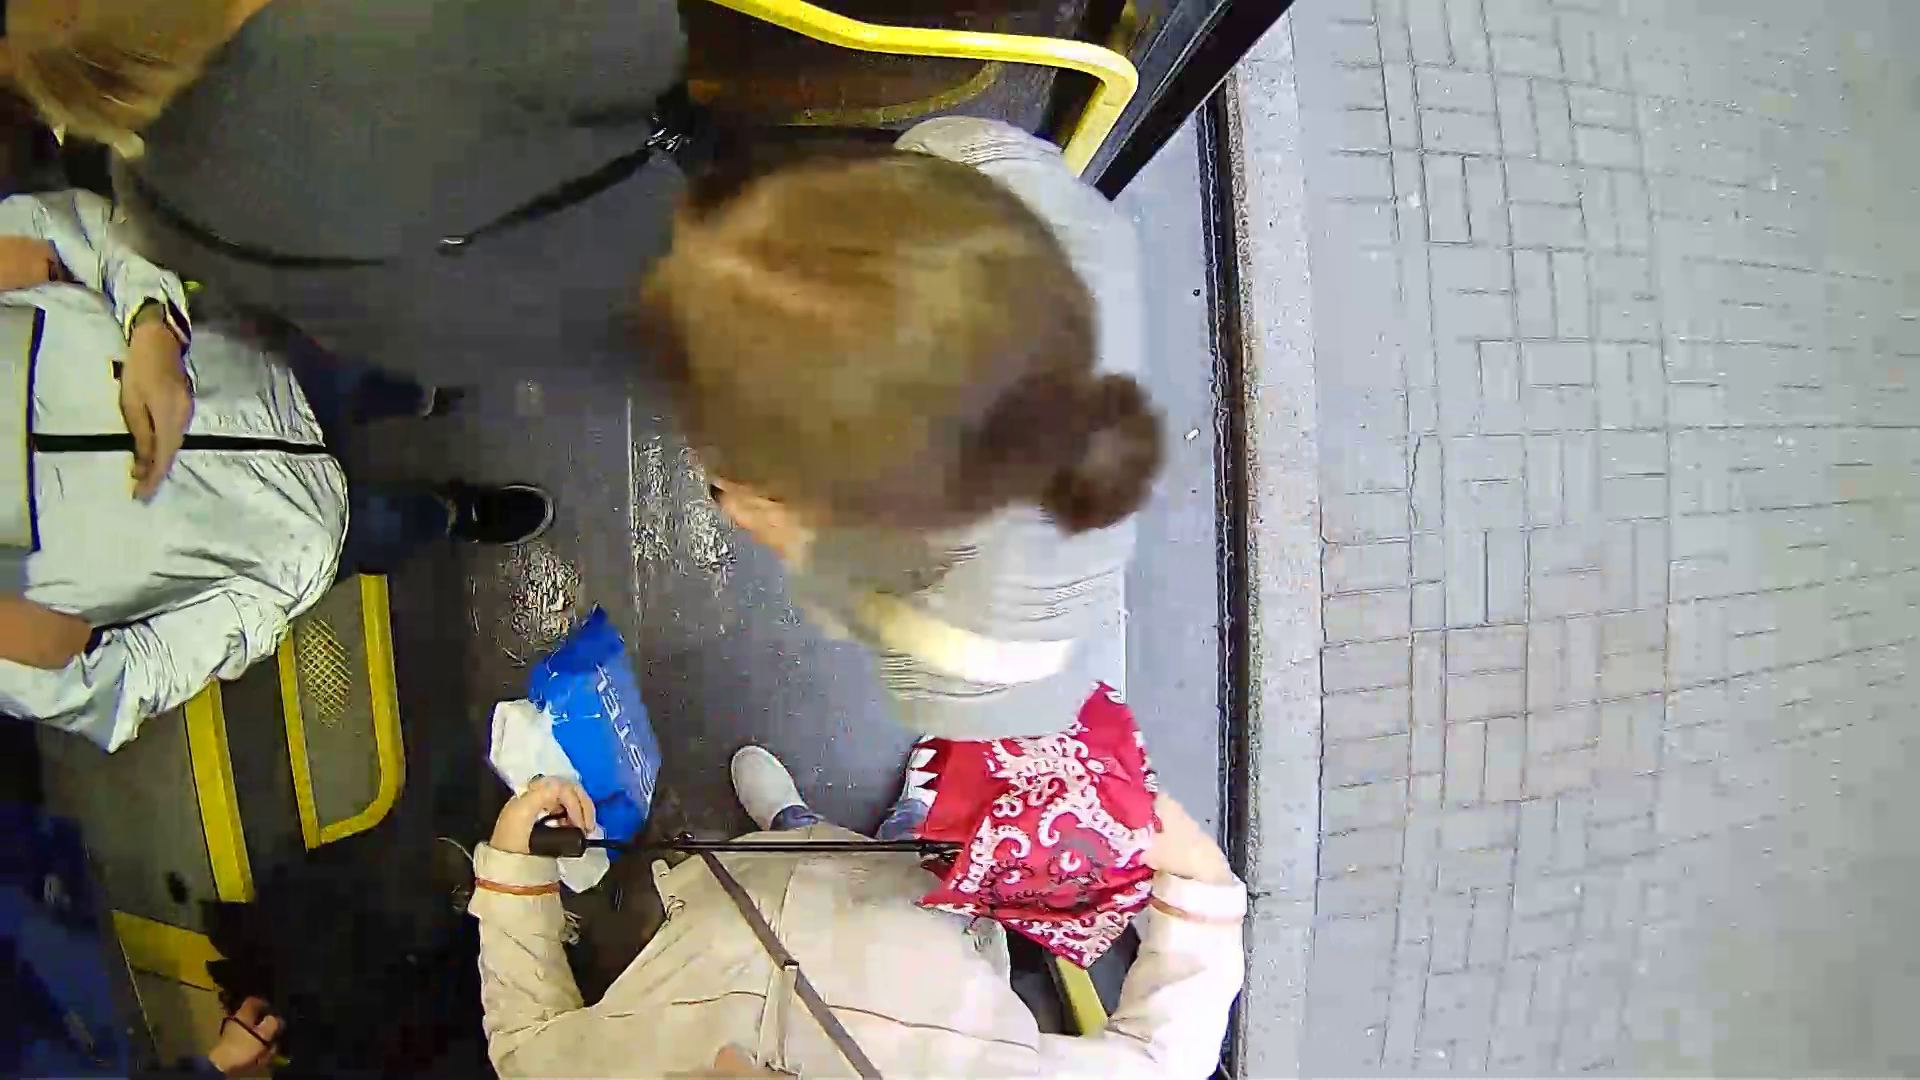person: (552, 133, 1300, 845)
